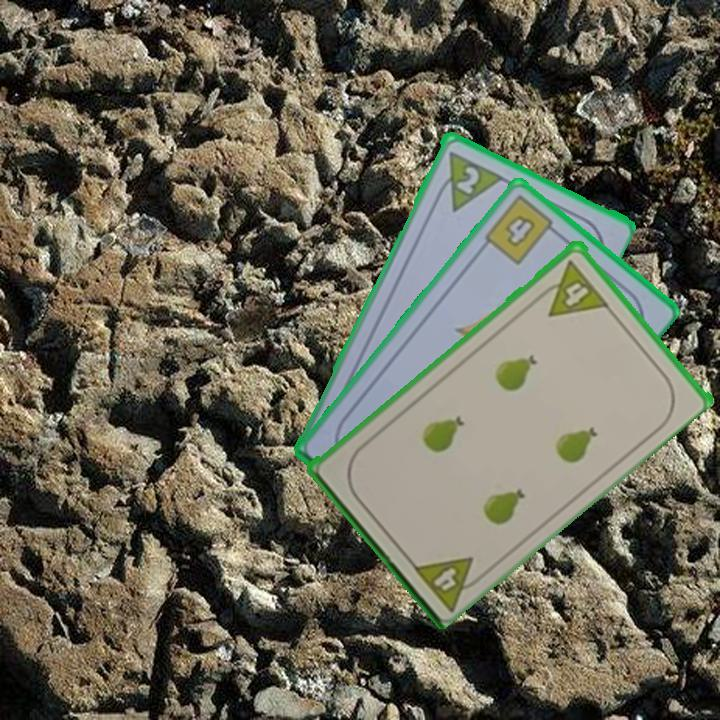2p: (430, 146, 505, 214)
4b: (481, 191, 563, 268)
4p: (408, 552, 490, 613), (533, 255, 611, 319)
